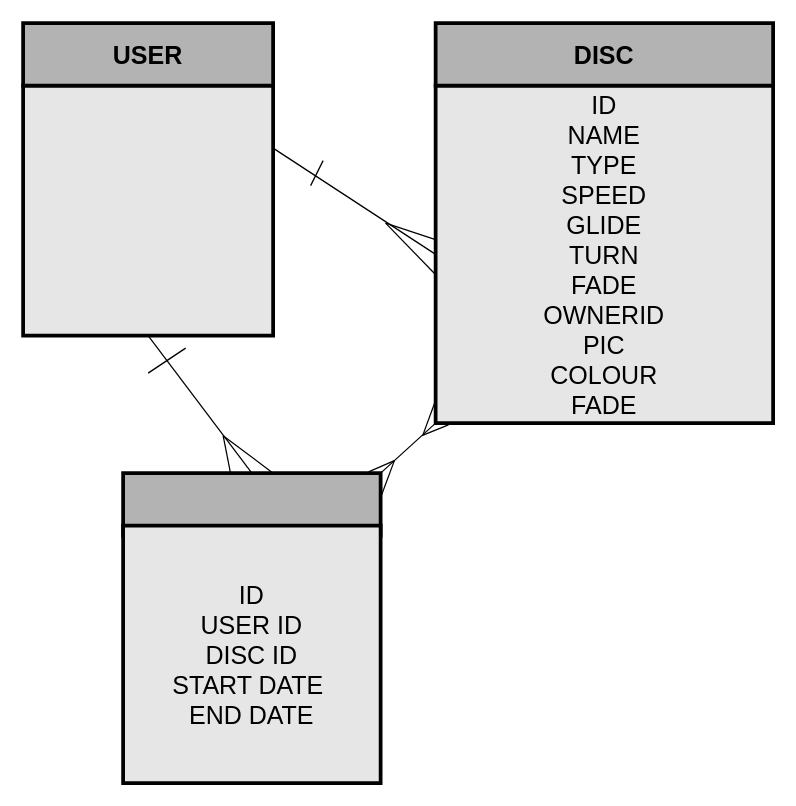
The diagram is 796 pixels wide and 806 high, and some of its shapes have lost their labels. The centre of each missing label's shape, as x and y in pixels:
BRONEERING: [251,504]
ID NIMI E-MAIL TELEFON AADRESS USERNAME PASSWORD ADMIN: [147,210]
